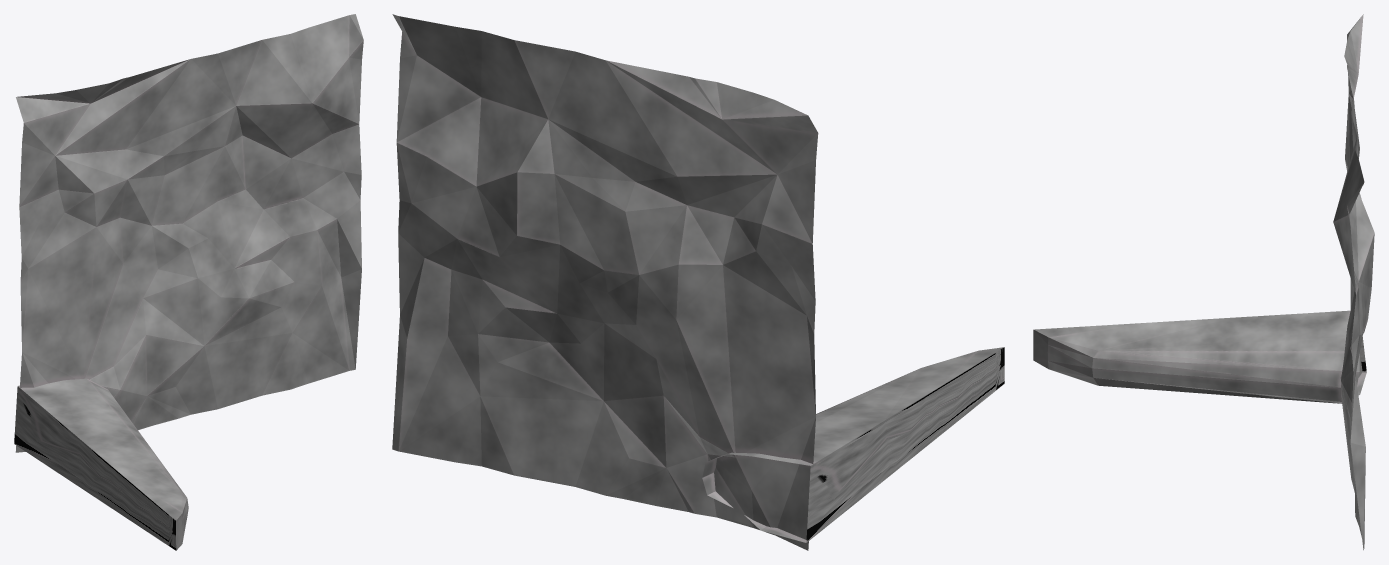
Rendered from WallShelfEnd1.gltf.
3 renders of one model, left to right at view 1: azimuth 30°, elevation 25°; view 2: azimuth 150°, elevation 25°; view 3: azimuth 270°, elevation 25°, orthographic. The views are drawn at different scales.
Parts seen in each view (by area): view 1: WallShelfEnd1; view 2: WallShelfEnd1; view 3: WallShelfEnd1.
Part boxes in pixels (x1,y1,x2,y2): WallShelfEnd1: (14, 14, 363, 550); WallShelfEnd1: (392, 14, 1004, 550); WallShelfEnd1: (1033, 14, 1374, 550).
Size of the model in its own units: 5 by 5 by 4.22.
Materials: 1 (1 with a texture image).
